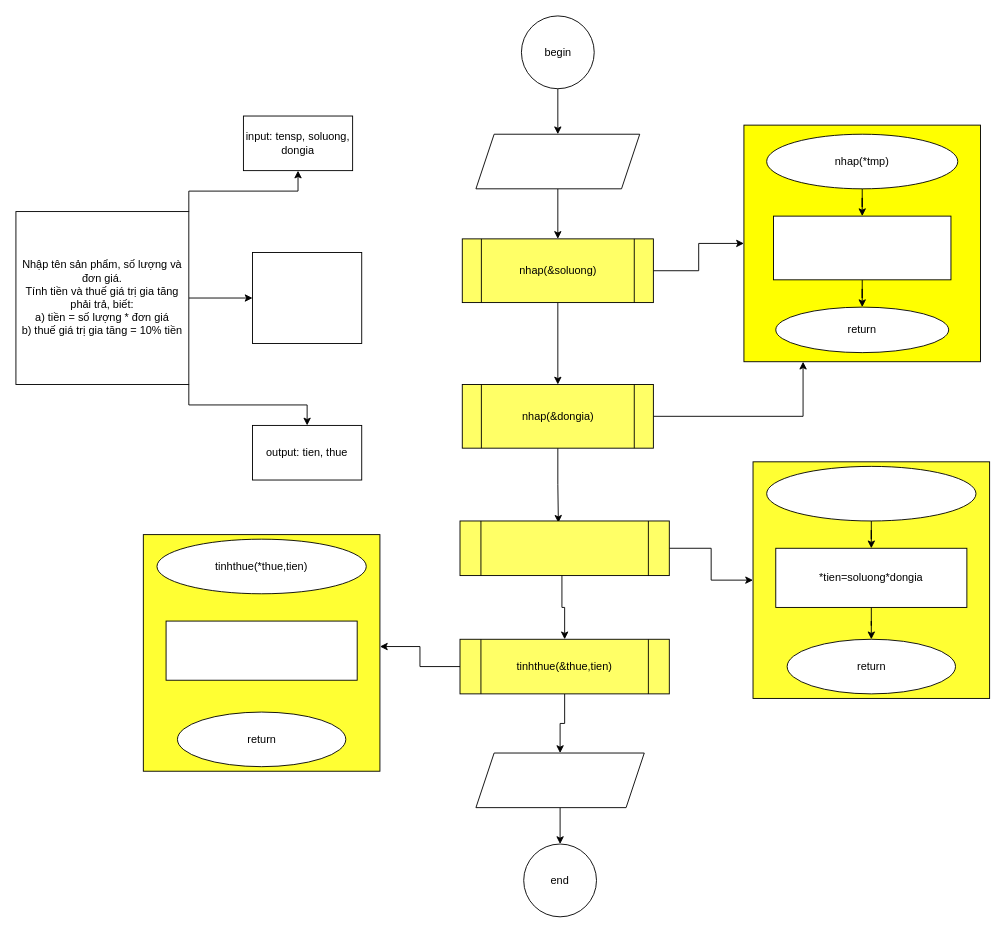
This 1006x933 diagram has some shape labels left out. The centre of each missing label's shape, as x and y in pixels:
"*thue=tien/100*10" goes at (x=261, y=650).
"print tien, thue" goes at (x=559, y=780).
"process: tien=soluong*dongia thue=tien/100*10" goes at (x=307, y=298).
"read tensp" goes at (x=557, y=161).
"read tmp" goes at (x=862, y=247).
"tinhtien(&tien,soluong,dongia)" goes at (x=564, y=548).
"tinhtien(*tien,soluong,dongia)" goes at (x=871, y=493).
